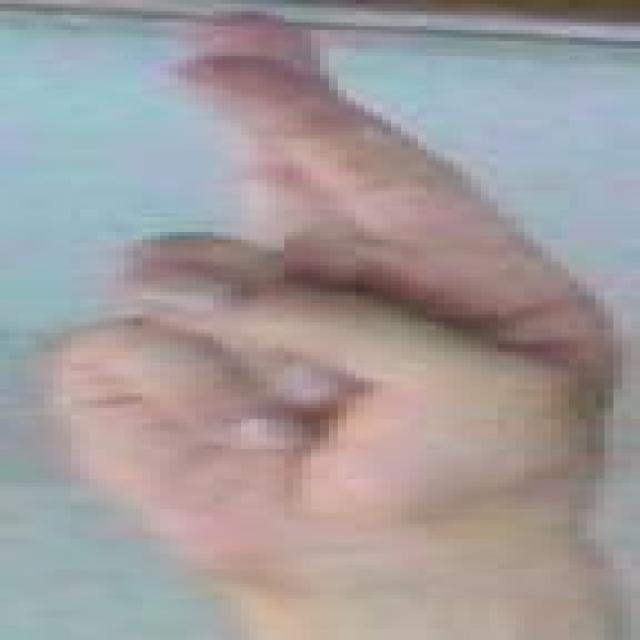R: (11, 5, 640, 640)
